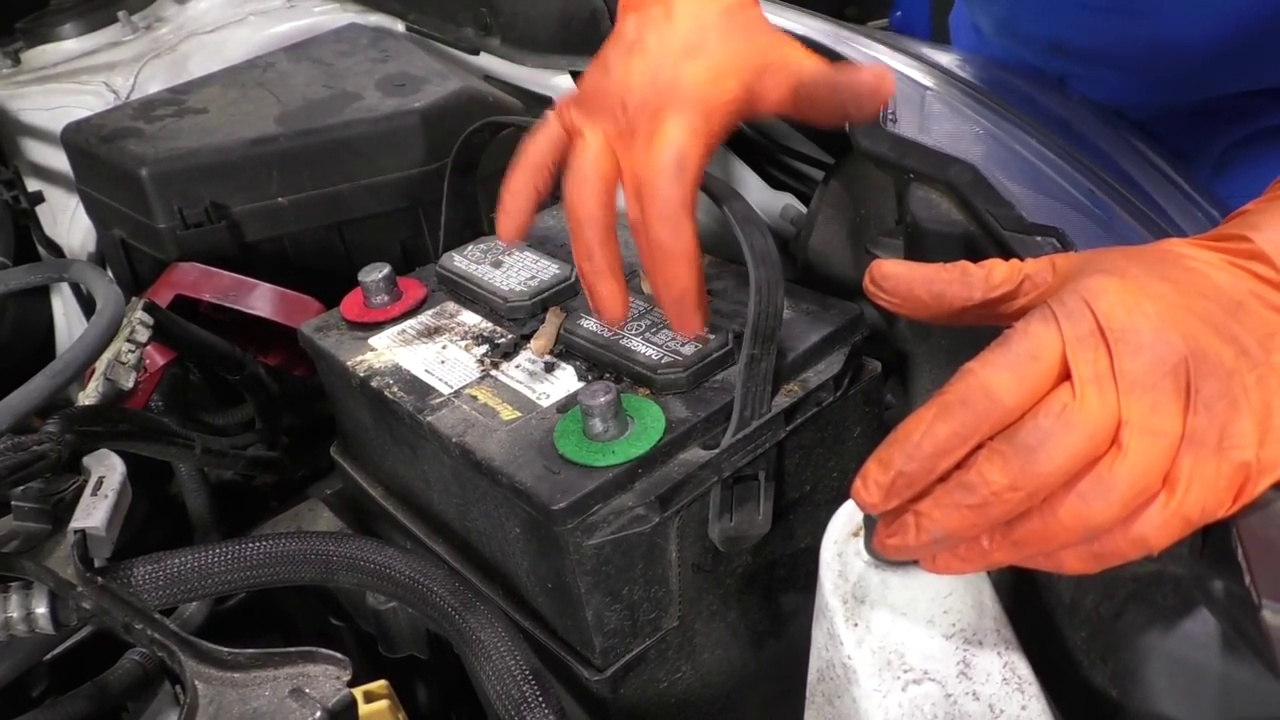battery: (322, 186, 863, 503)
neg_disconnected: (507, 366, 681, 489)
pos_disconnected: (149, 233, 449, 382)
